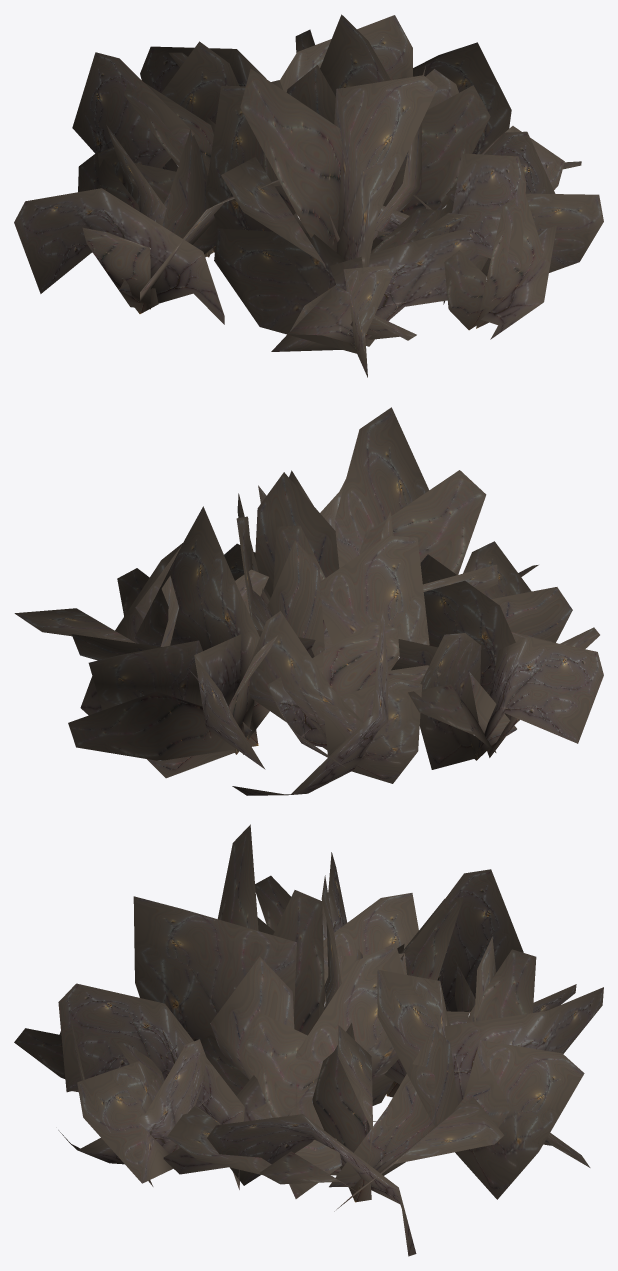
File: Bush_Group_1.fbx
The picture shows the model from 3 angles, top to bottom: view 1: azimuth 30°, elevation 25°; view 2: azimuth 150°, elevation 25°; view 3: azimuth 270°, elevation 25°; orthographic projection. The views are drawn at different scales.
Parts seen in each view (by area): view 1: Bush_Group_1; view 2: Bush_Group_1; view 3: Bush_Group_1.
Boxes of the visible parts, bbox=[...] form: Bush_Group_1: bbox=[14, 14, 603, 377]; Bush_Group_1: bbox=[14, 407, 603, 795]; Bush_Group_1: bbox=[14, 824, 603, 1256].
Size of the model in its own units: 3.61 by 1.78 by 3.37.
